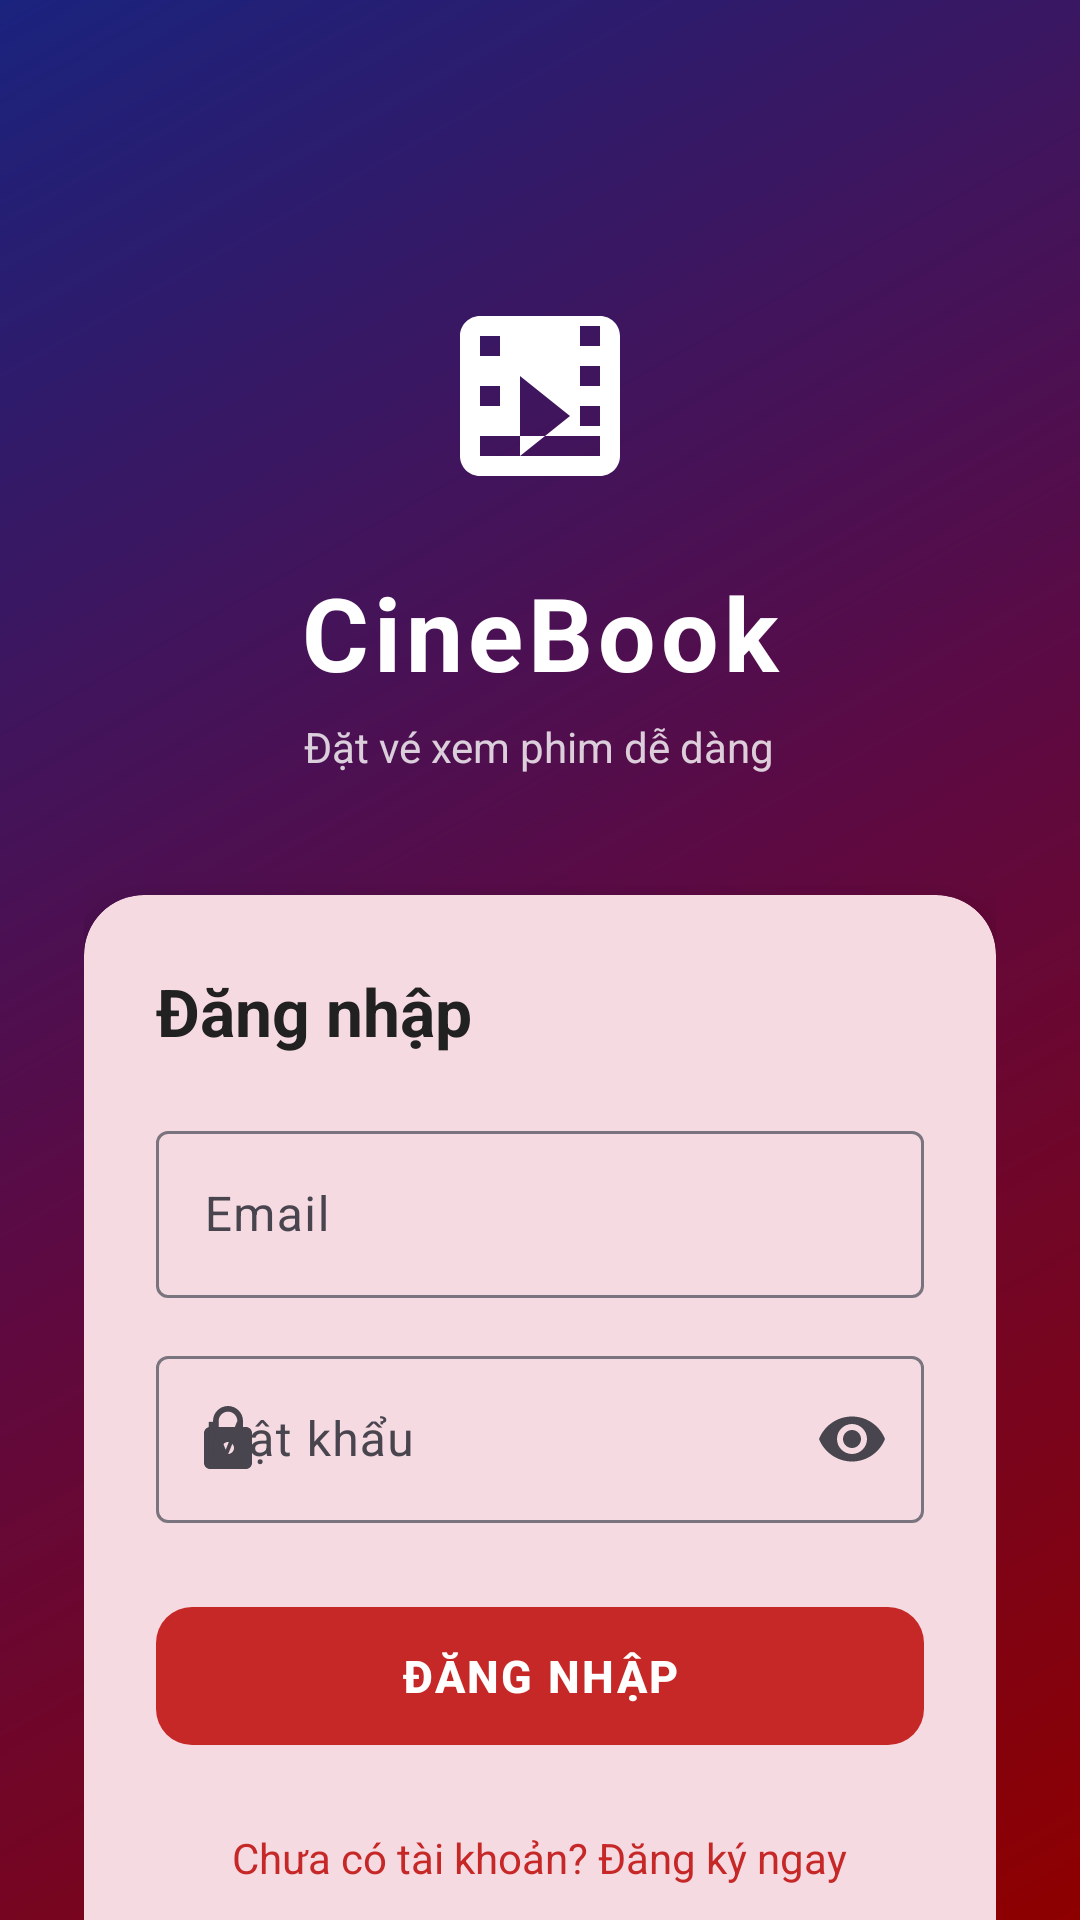

Point at icon controls on the screen. Image size 1080px×1920px, points as (x=x, y=y).
movie: (x=540, y=396)
